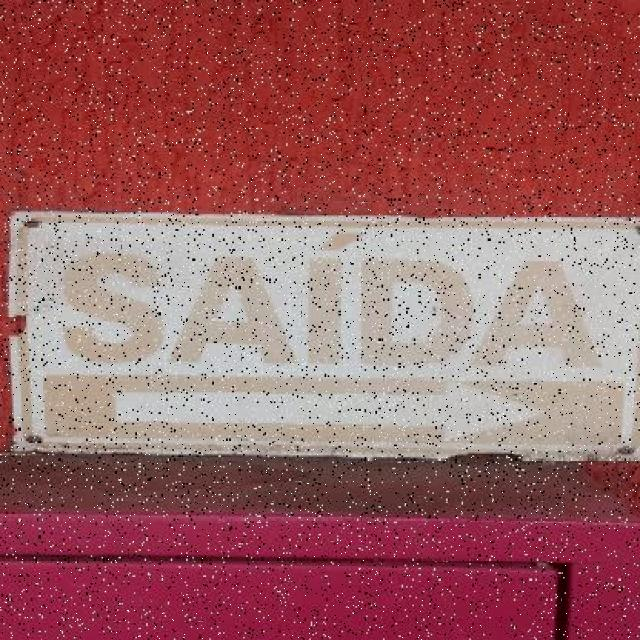emergency_exit: (6, 209, 639, 460)
